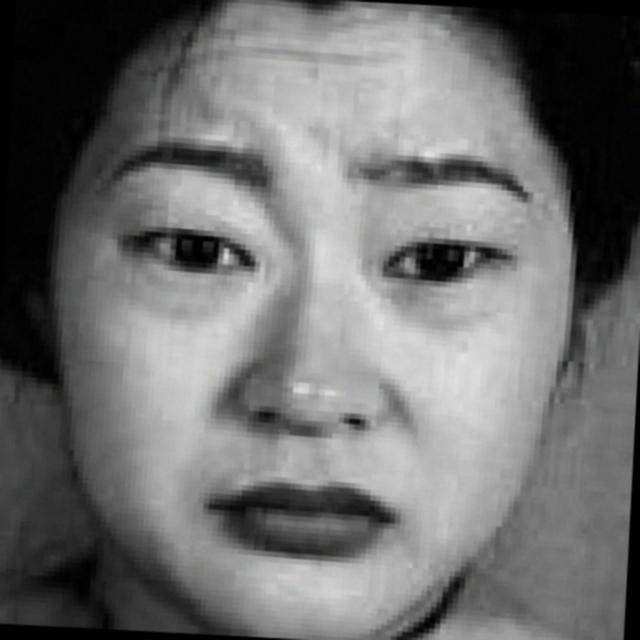fear: (34, 31, 562, 639)
